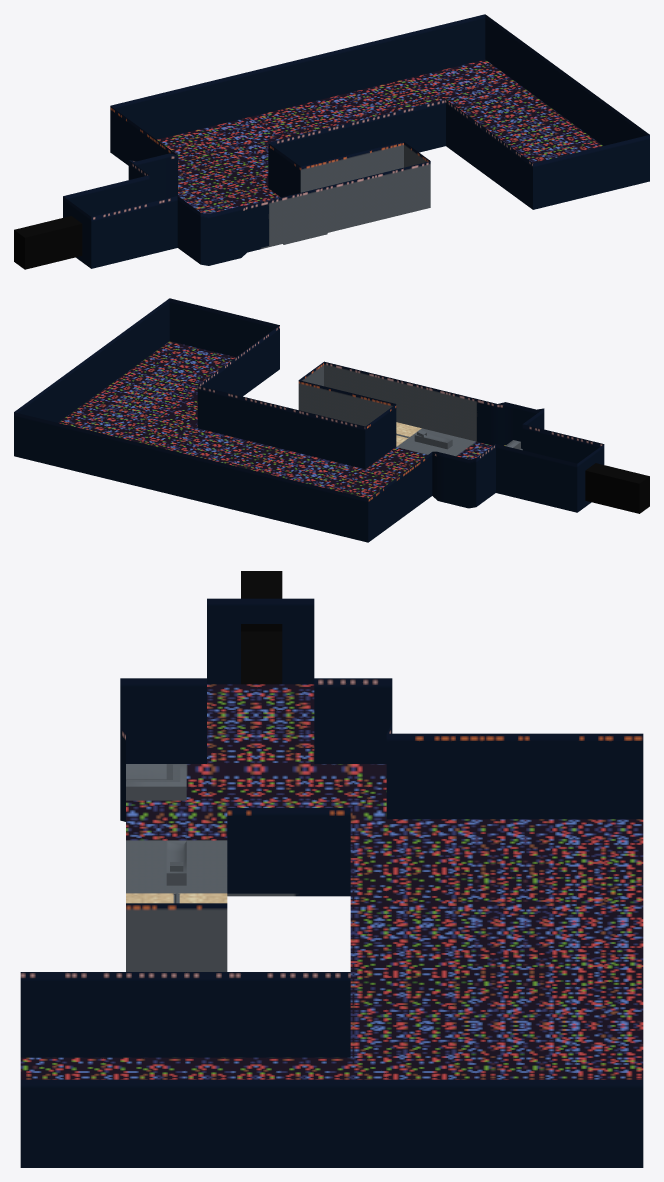
Rendered from arcadeALPHA.fbx.
The picture shows the model from 3 angles, top to bottom: view 1: azimuth 30°, elevation 25°; view 2: azimuth 150°, elevation 25°; view 3: azimuth 270°, elevation 25°; orthographic projection. The views are drawn at different scales.
Parts seen in each view (by area): view 1: Cube; view 2: Cube; view 3: Cube.
Part boxes in pixels (<box>): Cube: <box>14,14,649,269</box>; Cube: <box>14,298,649,542</box>; Cube: <box>20,571,643,1167</box>.
Bounding box in the file's own units: 20251 × 1888 × 10192.
1 material, 1 textured.
